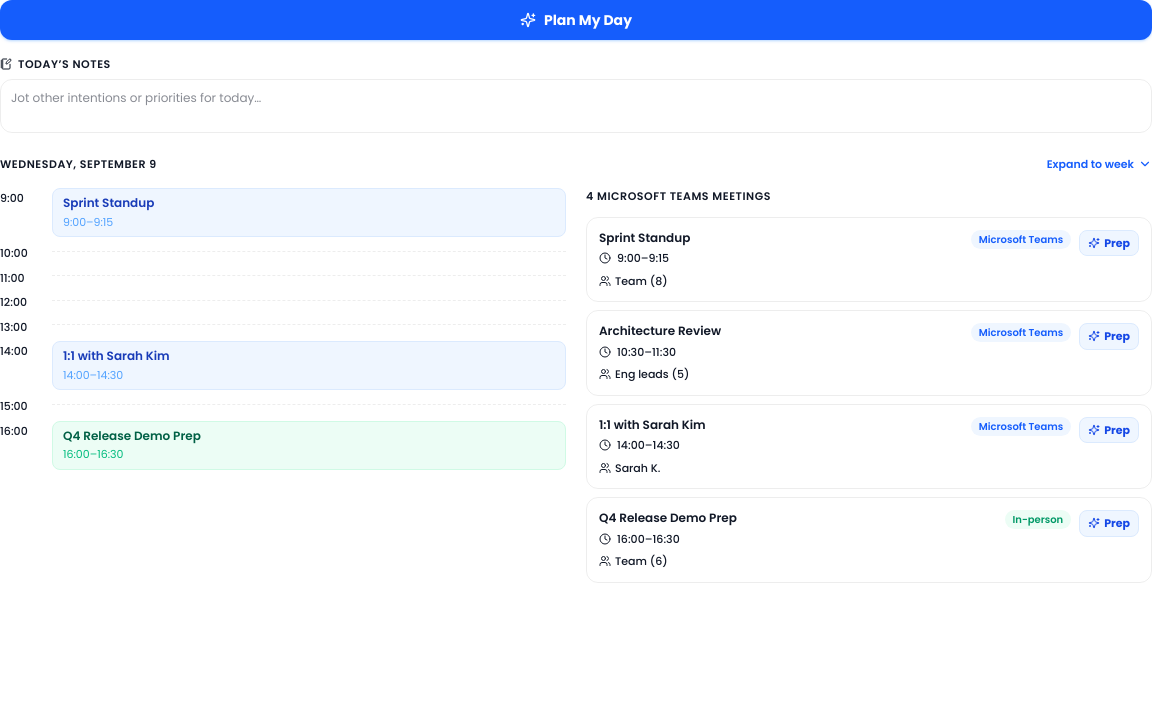
Test: CalendarWidget — Plan My Day › shows a time-blocked plan for today when Plan My Day is activated
Click the button "Plan My Day" at (576, 20), box [0,0,1151,40]
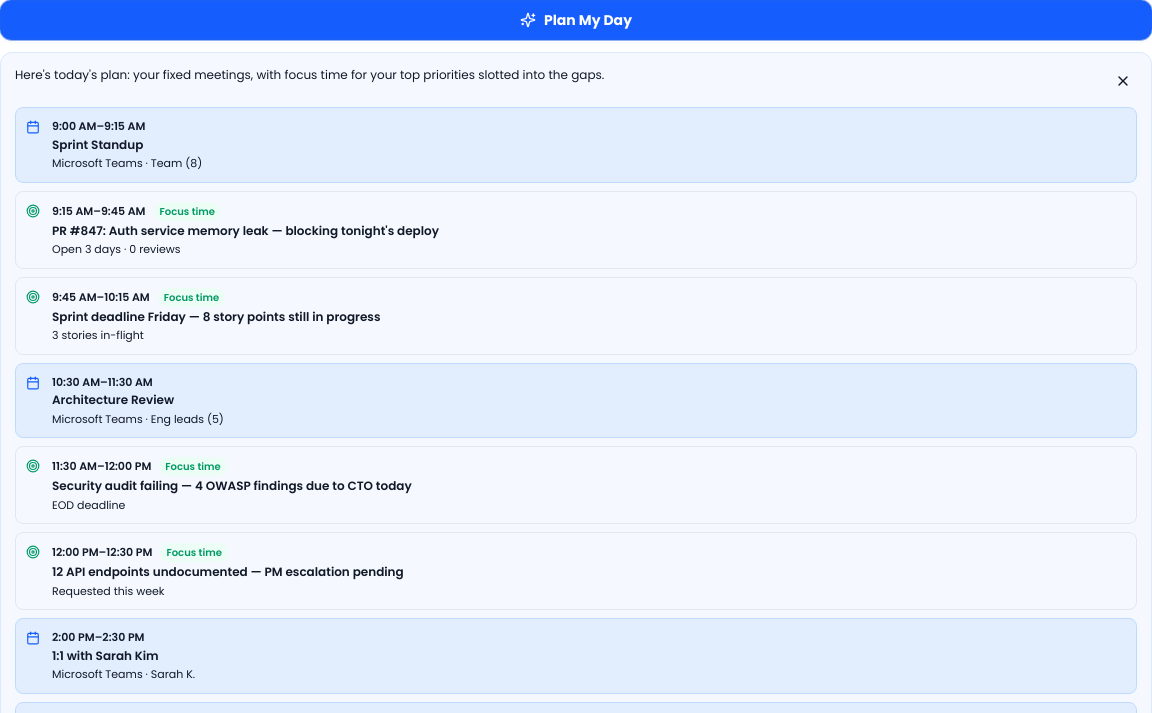
Check: the text "Here's today's plan" is shown, box [15,66,604,83]
Check: the text "Sprint Standup" is shown, box [52,136,143,152]
